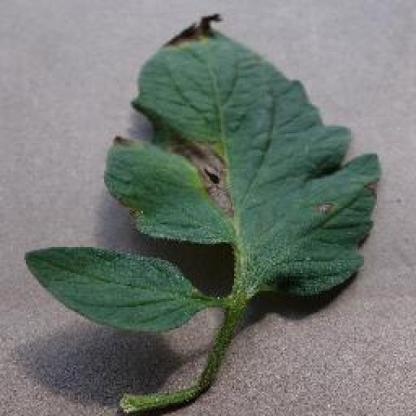Tomato_Blight: (27, 18, 378, 336)
